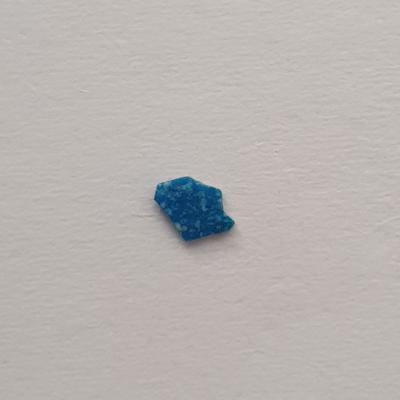plastic: (149, 174, 238, 246)
